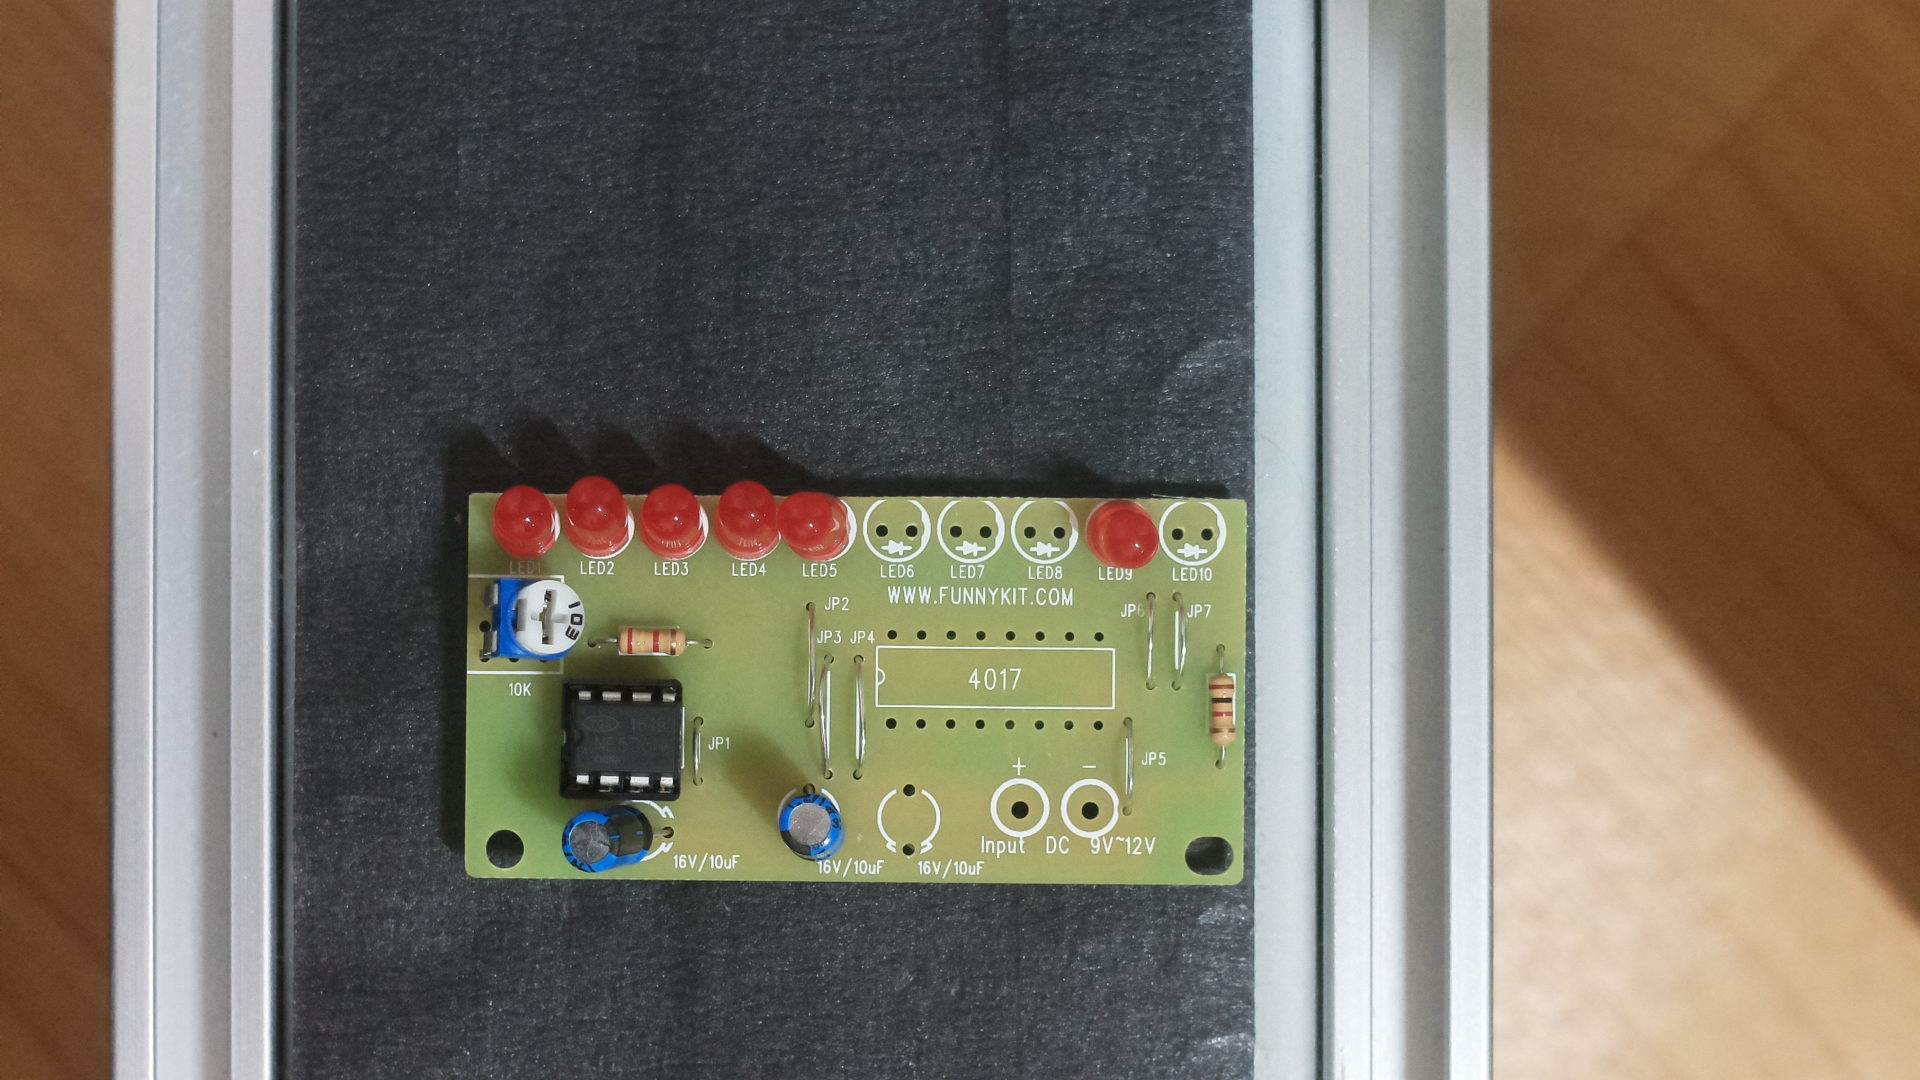B_Missing_part: (456, 469, 1257, 891)
